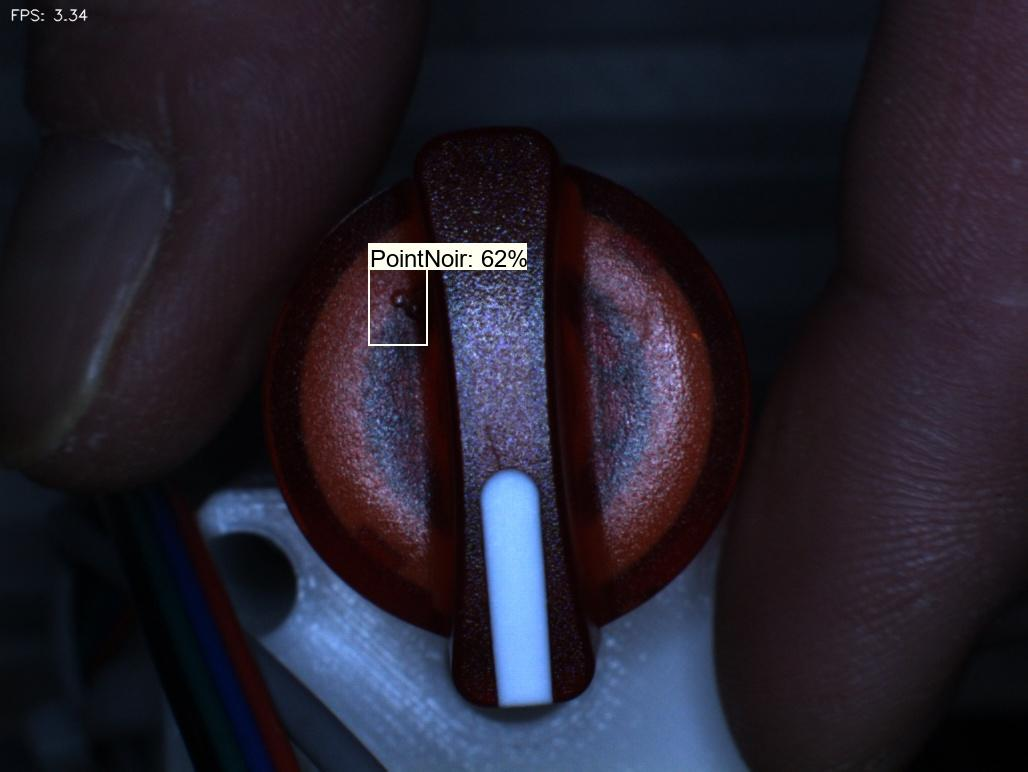Choc: (374, 272, 451, 342)
